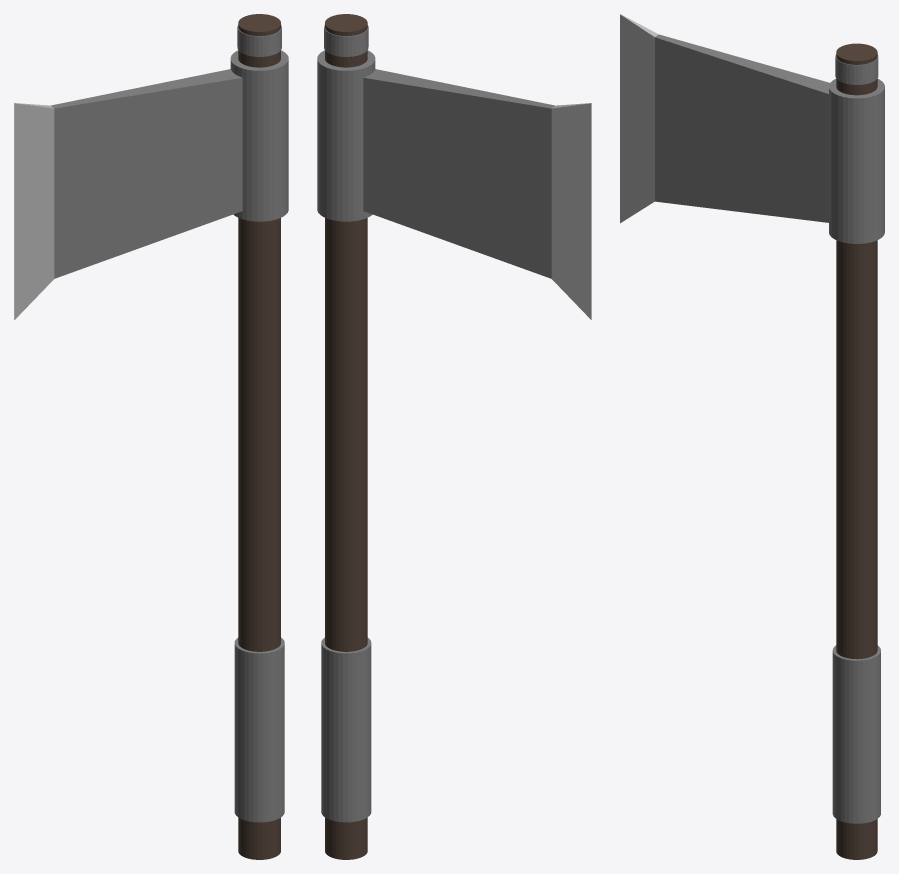
The model's file is WeaponAxe.fbx.
3 renders of one model, left to right at view 1: azimuth 30°, elevation 25°; view 2: azimuth 150°, elevation 25°; view 3: azimuth 330°, elevation 25°, orthographic. The views are drawn at different scales.
Parts seen in each view (by area): view 1: Axe; view 2: Axe; view 3: Axe.
Boxes of the visible parts, x1,y1,x2,y2 form: Axe: (14,14,288,859); Axe: (317,14,591,859); Axe: (620,14,884,859).
Bounding box in the file's own units: 33.08 × 96.77 × 6.17.
